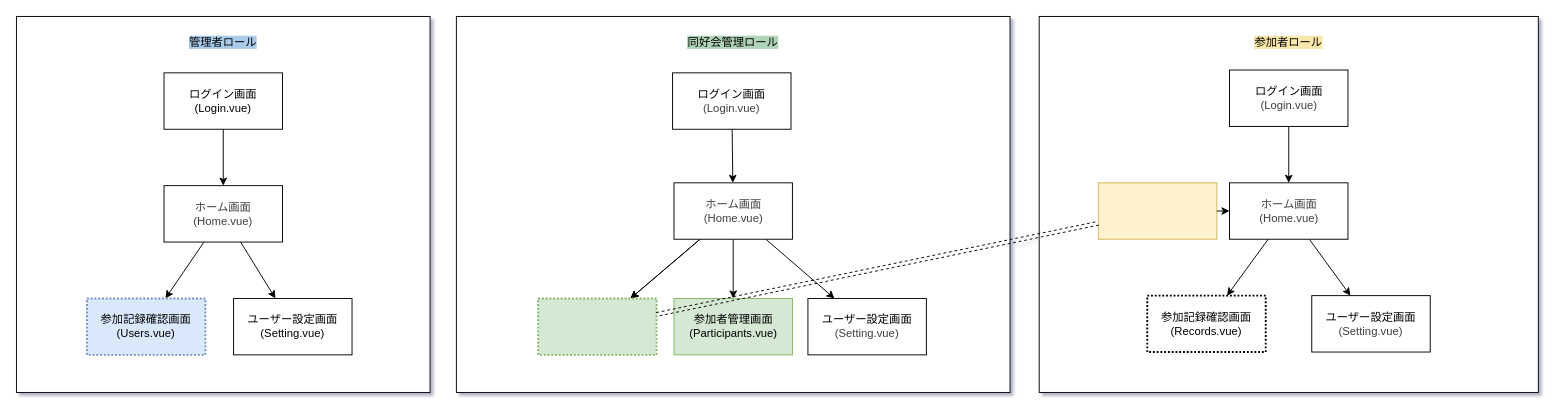
Some shapes in this 1560 by 415 pixel diagram are drawn without their labels. The centre of each missing label's shape, as x and y in pixels:
"リンク作成画面 (LinkCreater.vue)" goes at point 597,326.
"参加登録画面 ※リンクから遷移 (Register.vue)" goes at point 1157,210.
